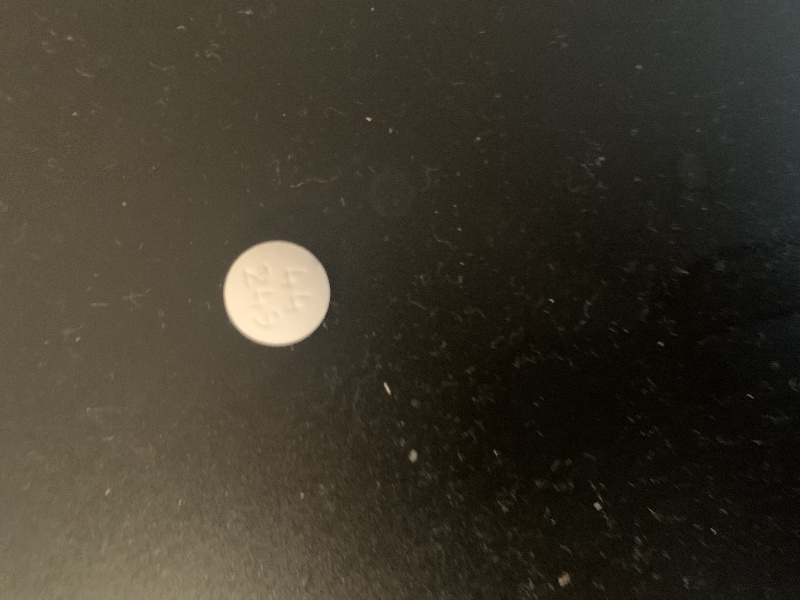Aspirin: (216, 236, 342, 351)
